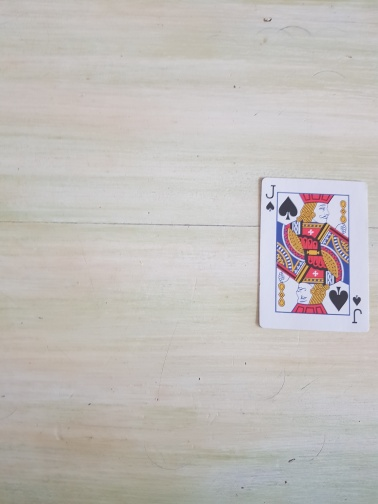jack: (257, 177, 371, 333)
